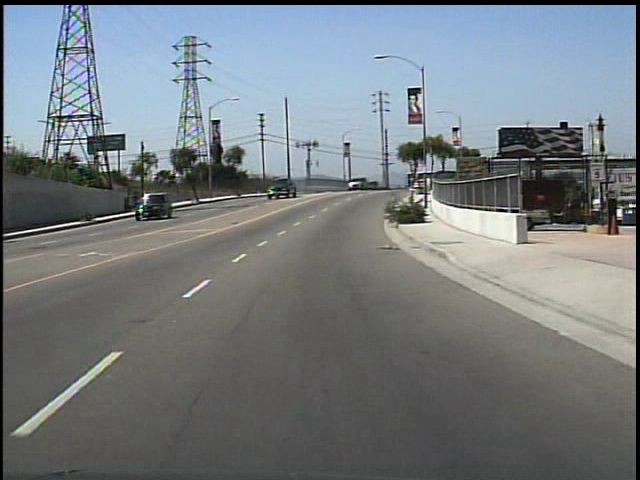person: (427, 174, 433, 198)
